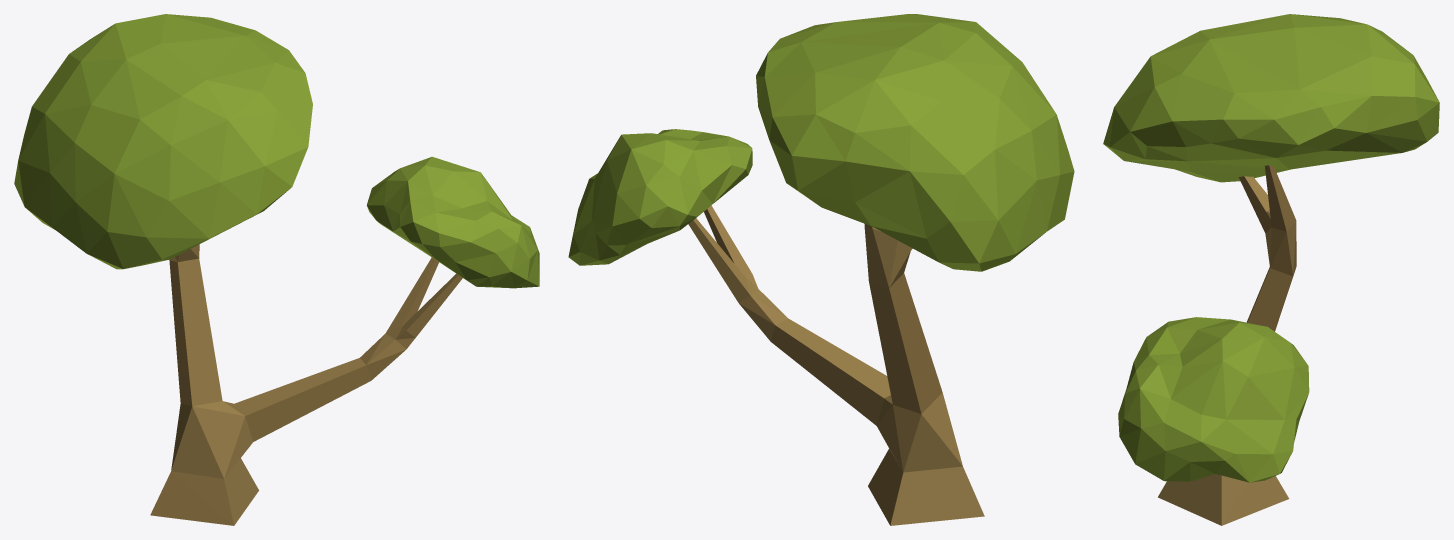
The model's file is tree_tall02.fbx.
3 renders of one model, left to right at view 1: azimuth 30°, elevation 25°; view 2: azimuth 150°, elevation 25°; view 3: azimuth 270°, elevation 25°, orthographic. The views are drawn at different scales.
Parts seen in each view (by area): view 1: tree_tall02_LOD0; view 2: tree_tall02_LOD0; view 3: tree_tall02_LOD0.
Boxes of the visible parts, x1,y1,x2,y2 form: tree_tall02_LOD0: (14, 14, 539, 525); tree_tall02_LOD0: (568, 14, 1074, 525); tree_tall02_LOD0: (1103, 14, 1439, 525).
Size of what is drawn, in the model's own units: 529 by 496 by 326.
